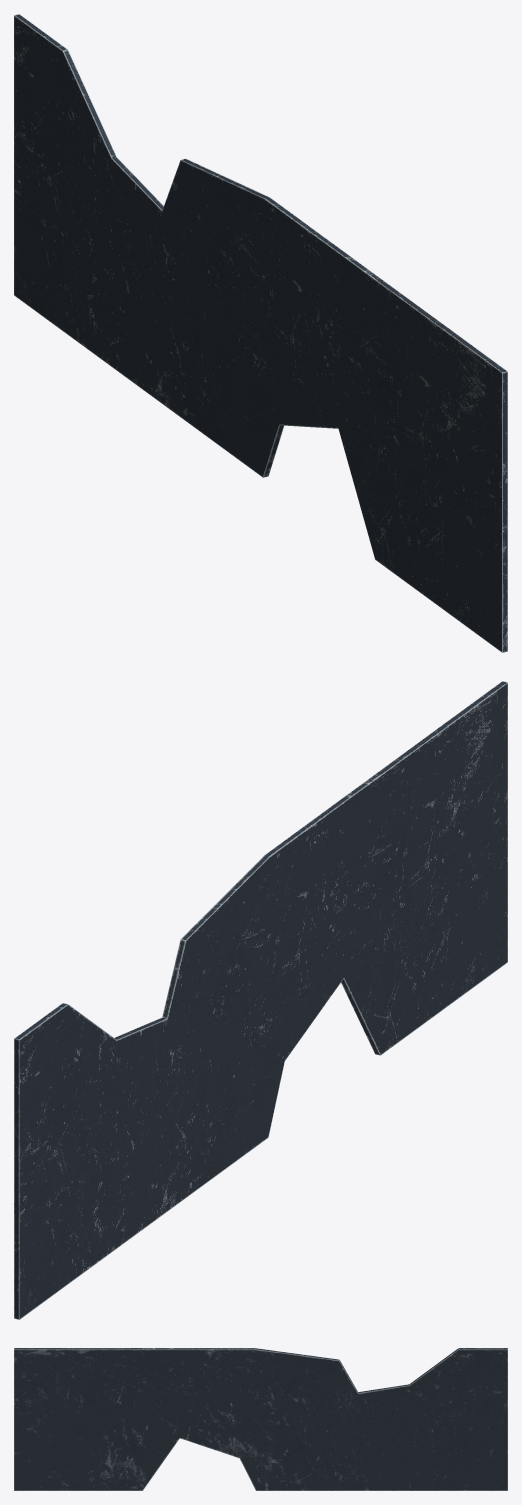
File: B4_BlueDark.gltf
The picture shows the model from 3 angles, top to bottom: view 1: azimuth 30°, elevation 25°; view 2: azimuth 150°, elevation 25°; view 3: azimuth 270°, elevation 25°; orthographic projection. The views are drawn at different scales.
Visible parts, largest first — view 1: Cube.017; view 2: Cube.017; view 3: Cube.017.
Boxes of the visible parts, box(x1,y1,x2,y2) form: Cube.017: box(14, 14, 507, 652); Cube.017: box(14, 681, 507, 1319); Cube.017: box(14, 1348, 507, 1490).
Bounding box in the file's own units: 0.037 × 1.8 × 5.7.
Materials: 1 (1 with a texture image).
